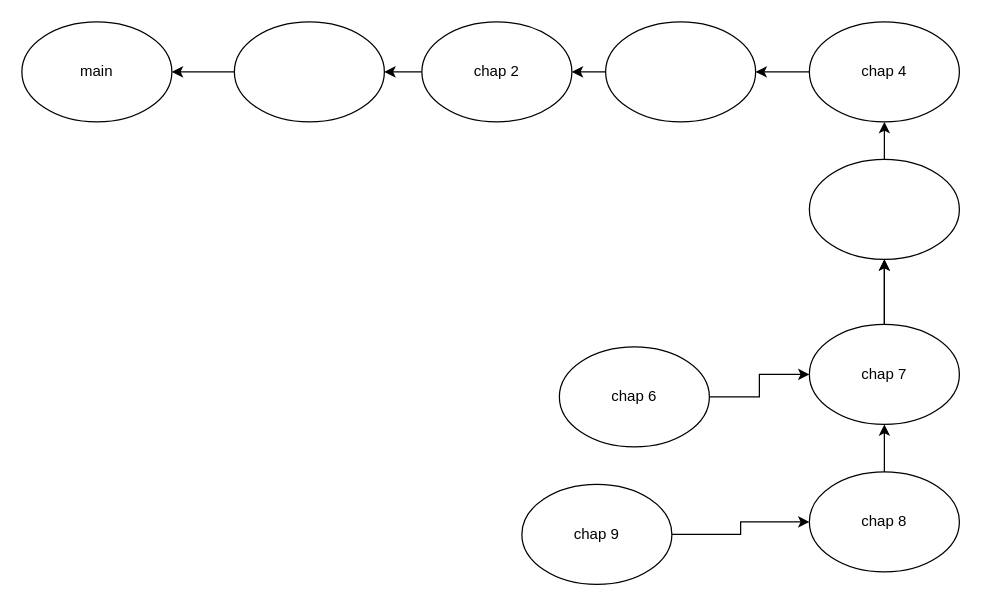
The diagram is 981 pixels wide and 606 high, and some of its shapes have lost their labels. Each missing label, with the centre of its shape:
"chap 1" belongs at (308,71).
"chap 3" belongs at (680,71).
"chap 5" belongs at (883,208).
